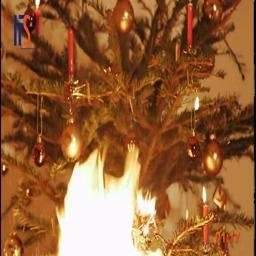fire: (45, 146, 168, 256)
